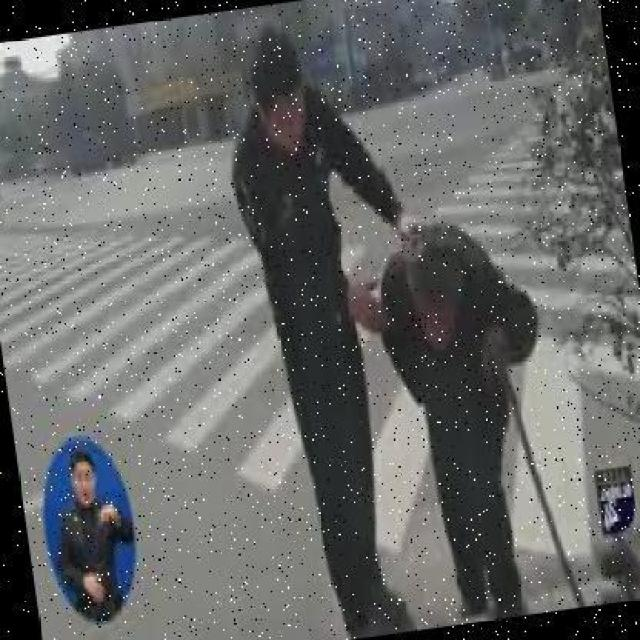Person: (212, 7, 458, 638), (369, 213, 588, 625)
